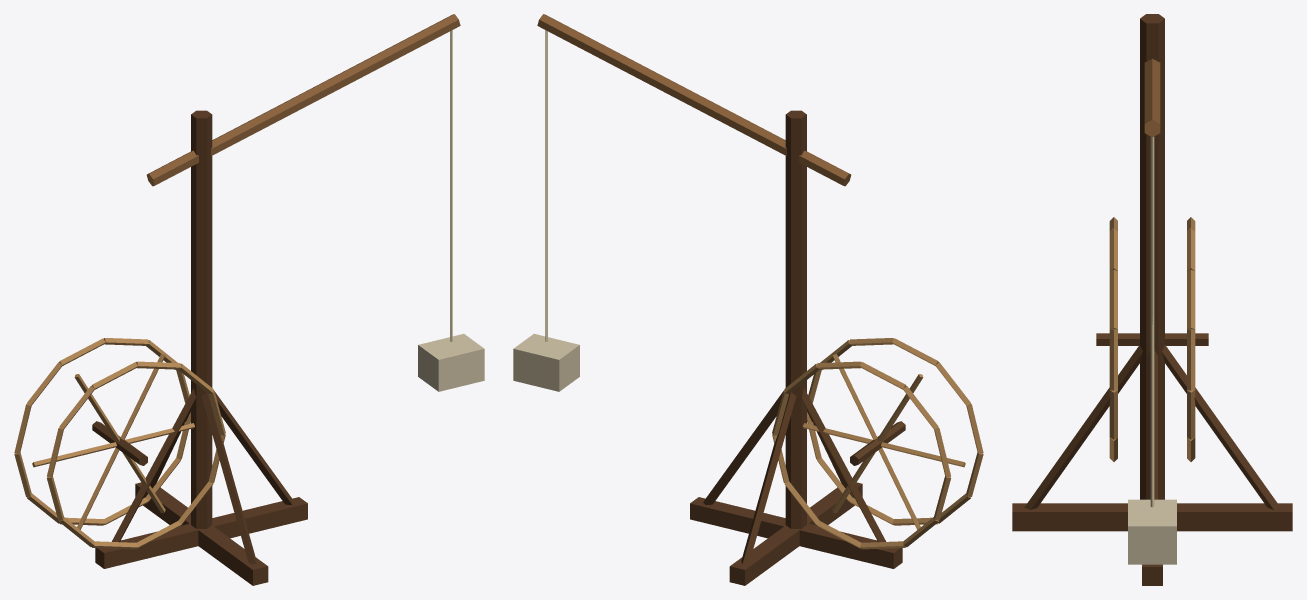
File: castle_crane.glb
The picture shows the model from 3 angles, left to right: view 1: azimuth 30°, elevation 25°; view 2: azimuth 150°, elevation 25°; view 3: azimuth 270°, elevation 25°; orthographic projection. The views are drawn at different scales.
Visible parts, largest first — view 1: castle_crane; view 2: castle_crane; view 3: castle_crane.
Boxes of the visible parts, box(x1,y1,x2,y2) form: castle_crane: box(14, 14, 484, 585); castle_crane: box(513, 14, 983, 585); castle_crane: box(1012, 14, 1292, 585).
Size of the model in its own units: 8.71 by 8.73 by 4.
